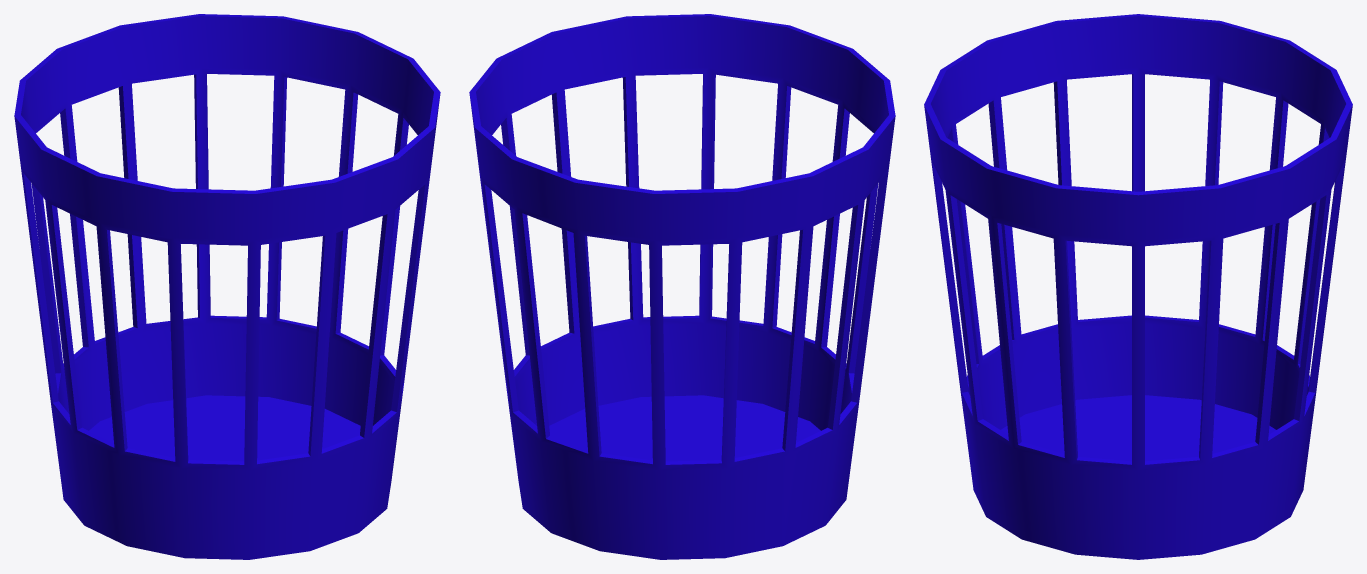
The model's file is sm_trashcan.fbx.
3 views of the same model, side by side, from view 1: azimuth 30°, elevation 25°; view 2: azimuth 150°, elevation 25°; view 3: azimuth 270°, elevation 25° (orthographic).
Parts seen in each view (by area): view 1: sm_tacho; view 2: sm_tacho; view 3: sm_tacho.
Boxes of the visible parts, bbox=[...] form: sm_tacho: bbox=[14, 14, 440, 559]; sm_tacho: bbox=[469, 14, 895, 559]; sm_tacho: bbox=[924, 14, 1352, 559].
Size of the model in its own units: 65 by 64.61 by 65.
